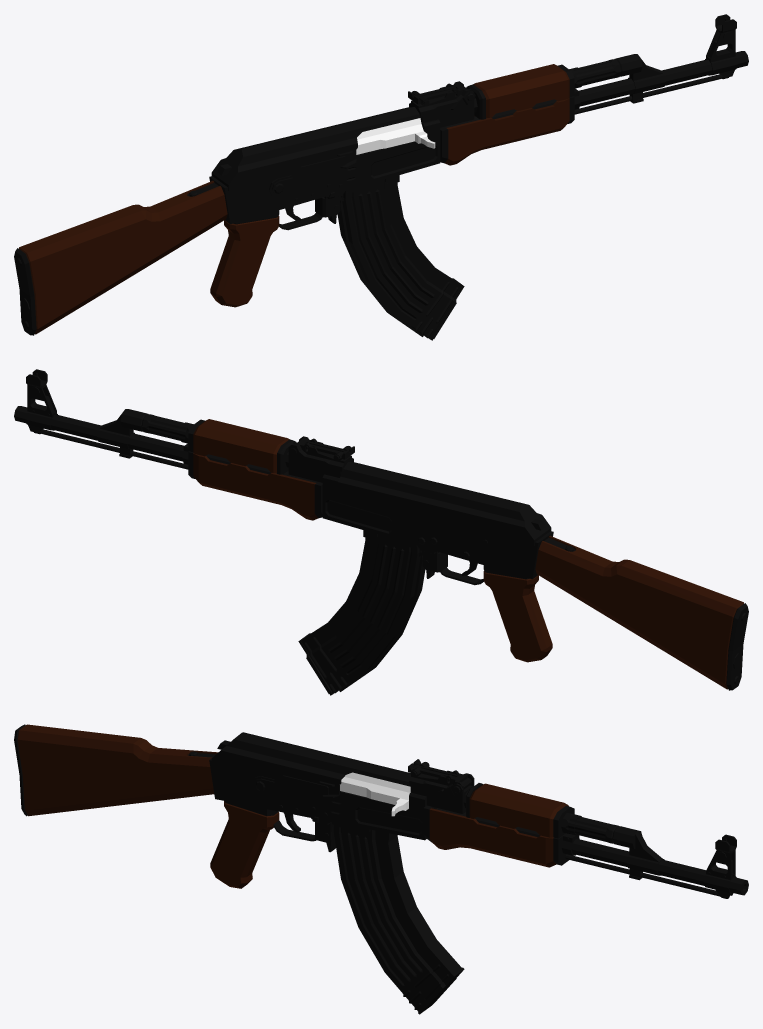
The picture shows the model from 3 angles, top to bottom: view 1: azimuth 30°, elevation 25°; view 2: azimuth 150°, elevation 25°; view 3: azimuth 330°, elevation 25°; orthographic projection.
Visible parts, largest first — view 1: Cube, 7.62x39_mag.002, Cube.002, Cube.001, Cylinder.004; view 2: Cube, 7.62x39_mag.002, Cube.002; view 3: Cube, 7.62x39_mag.002, Cube.002, Cube.001, Cylinder.004.
Part boxes in pixels (x1,y1,x2,y2): Cube: [14, 14, 748, 335]; 7.62x39_mag.002: [337, 175, 464, 340]; Cube.002: [211, 107, 421, 190]; Cube.001: [356, 118, 435, 154]; Cylinder.004: [268, 150, 356, 196]; Cube: [14, 369, 748, 690]; 7.62x39_mag.002: [298, 530, 425, 695]; Cube.002: [337, 462, 551, 545]; Cube: [14, 724, 748, 898]; 7.62x39_mag.002: [331, 822, 464, 1014]; Cube.002: [211, 732, 410, 786]; Cube.001: [340, 772, 410, 816]; Cylinder.004: [252, 772, 339, 797].
Size of the model in its own units: 8.56 by 2.75 by 0.626.
